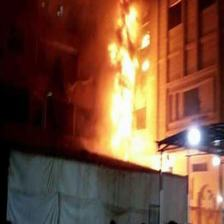fire: (100, 4, 161, 161)
